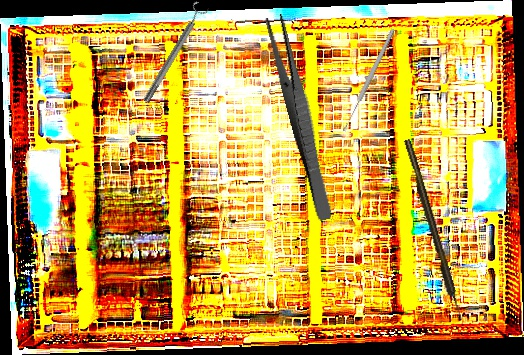Dressing Forceps: (262, 13, 340, 222)
Fixation Ring: (137, 0, 211, 106)
Hook Surgical: (403, 138, 464, 322)
Surgical Spoon: (341, 27, 396, 133)
